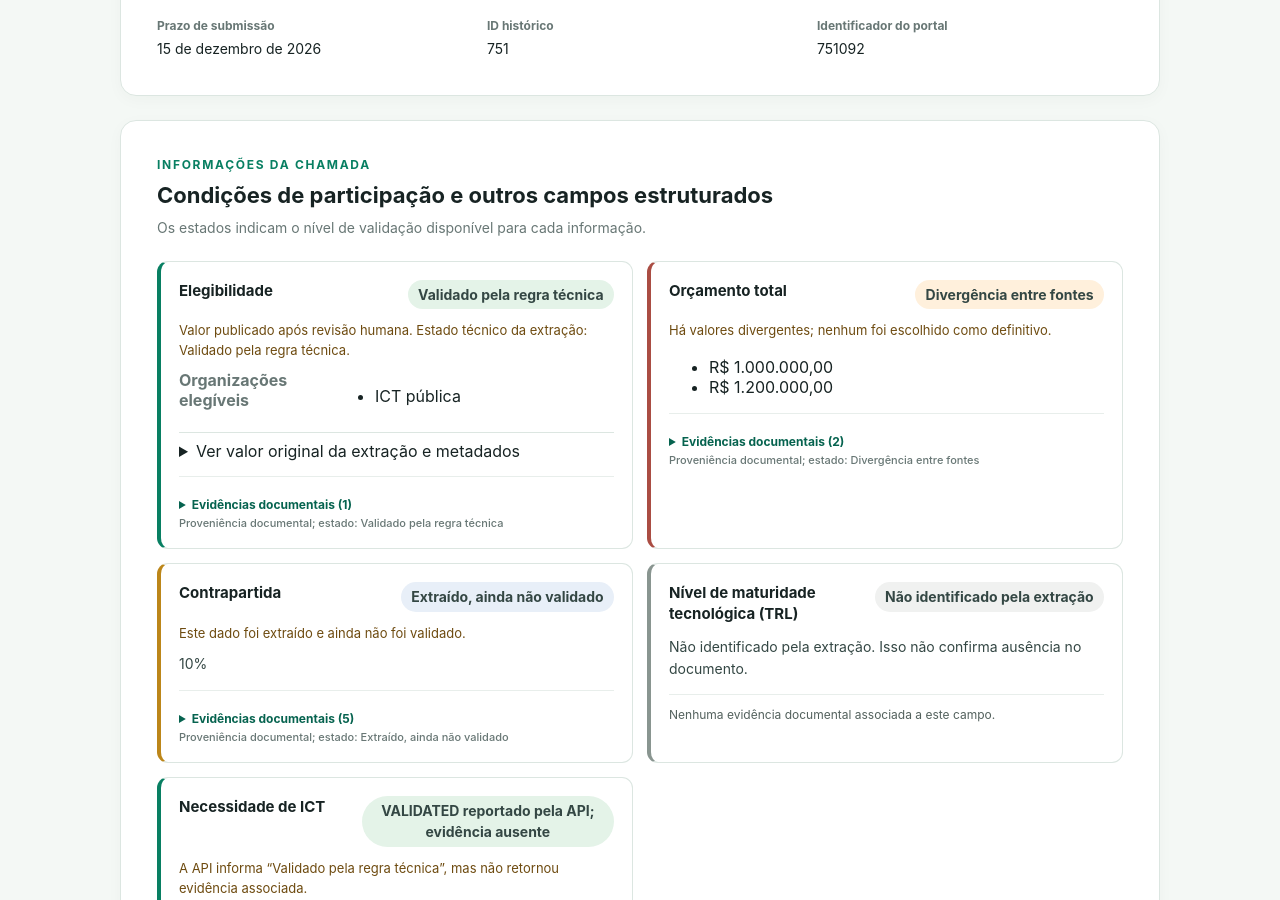
it: opportunity detail › shows human publication separately from unchanged extraction state and value
The image size is (1280, 900).
(page scrolled)
Expected: the text "Valor publicado após revisão humana. Estado técnico da extração: Validado pela regra técnica." is shown, [179,321,614,360]
Expected: the text "ICT pública" is shown, [375,386,461,406]
What coordinates should you click on to do the following:
click the heading "Ver valor original da extração e metadados"
I would click on:
 (358, 451)
Its box is [196,441,520,461].
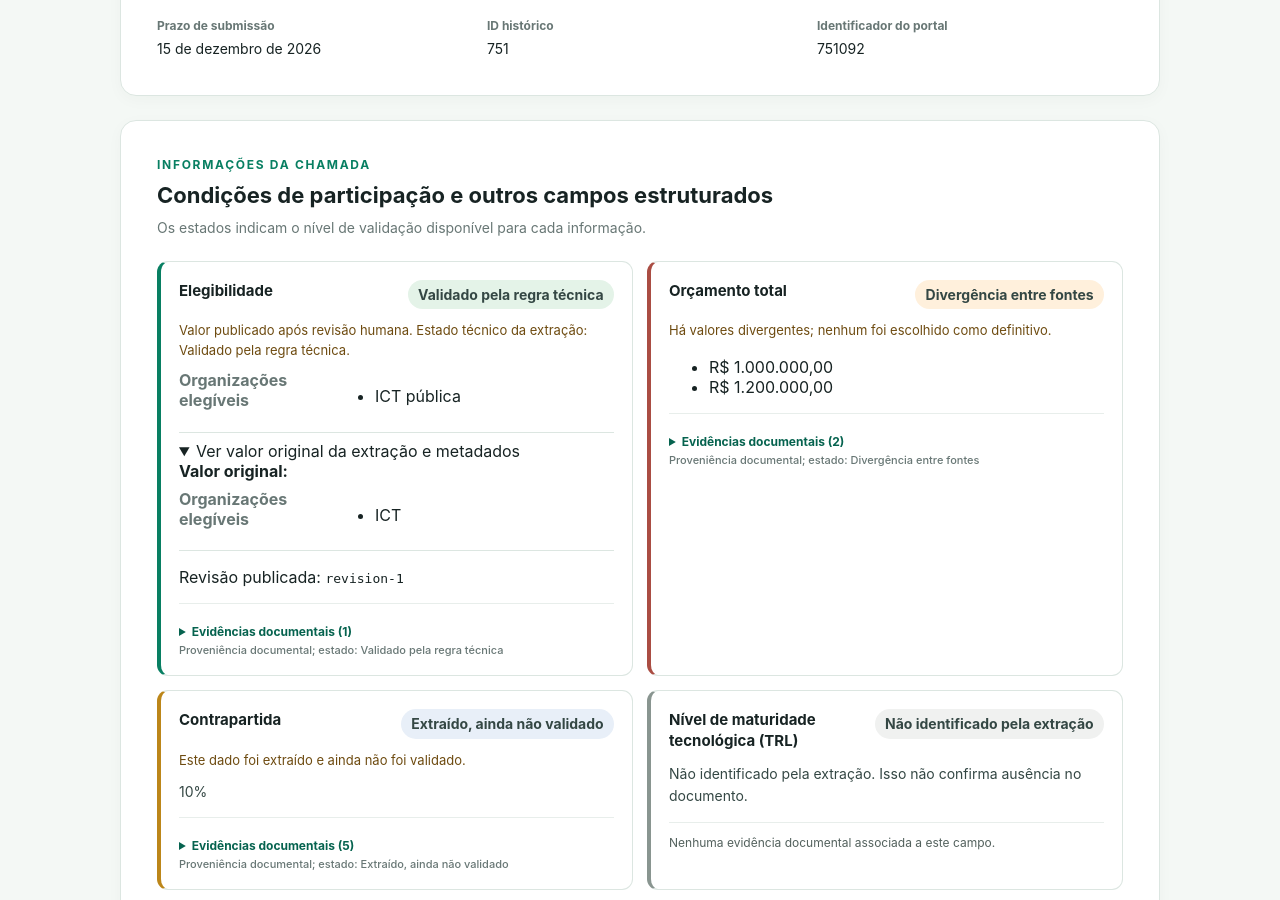
Expected: the text "ICT" is shown, [375,505,401,525]
Expected: the text "revision-1" is shown, [326,572,404,586]
